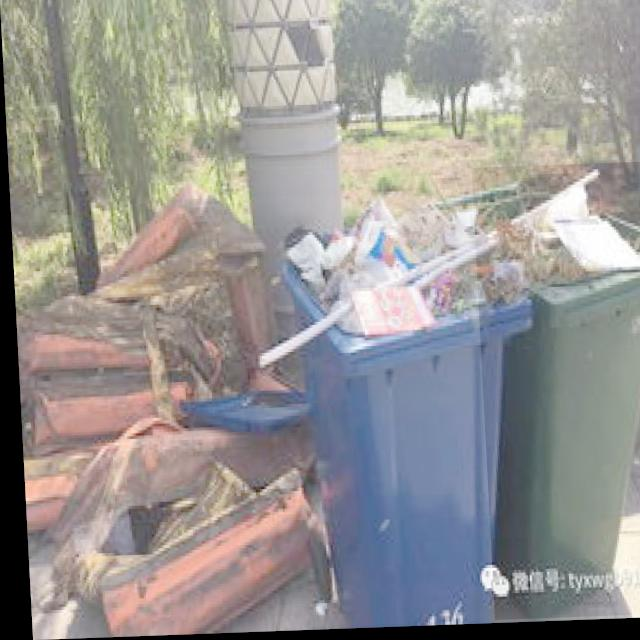overflow: (243, 191, 538, 630), (470, 166, 640, 624)
